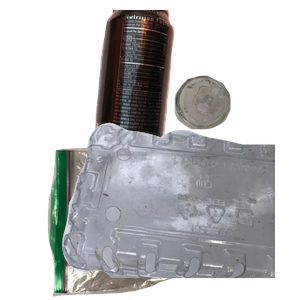glass: (172, 73, 300, 195)
metal: (91, 10, 258, 188)
plastic: (60, 120, 300, 300)
trash: (45, 144, 235, 300)
